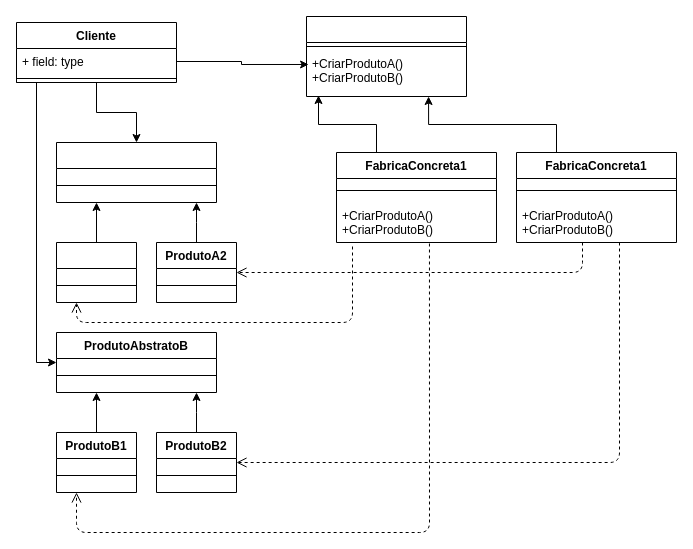
Some shapes in this 693 by 549 pixel diagram are drawn without their labels. The shapes that lost their labels are listed below. From the top down, each one's box as (x1, y1, x2, y2) in pixels, then its label:
(306, 16, 466, 96): FabricaAbstrata
(56, 142, 216, 202): ProdutoAbstratoA
(56, 242, 136, 302): ProdutoA1
